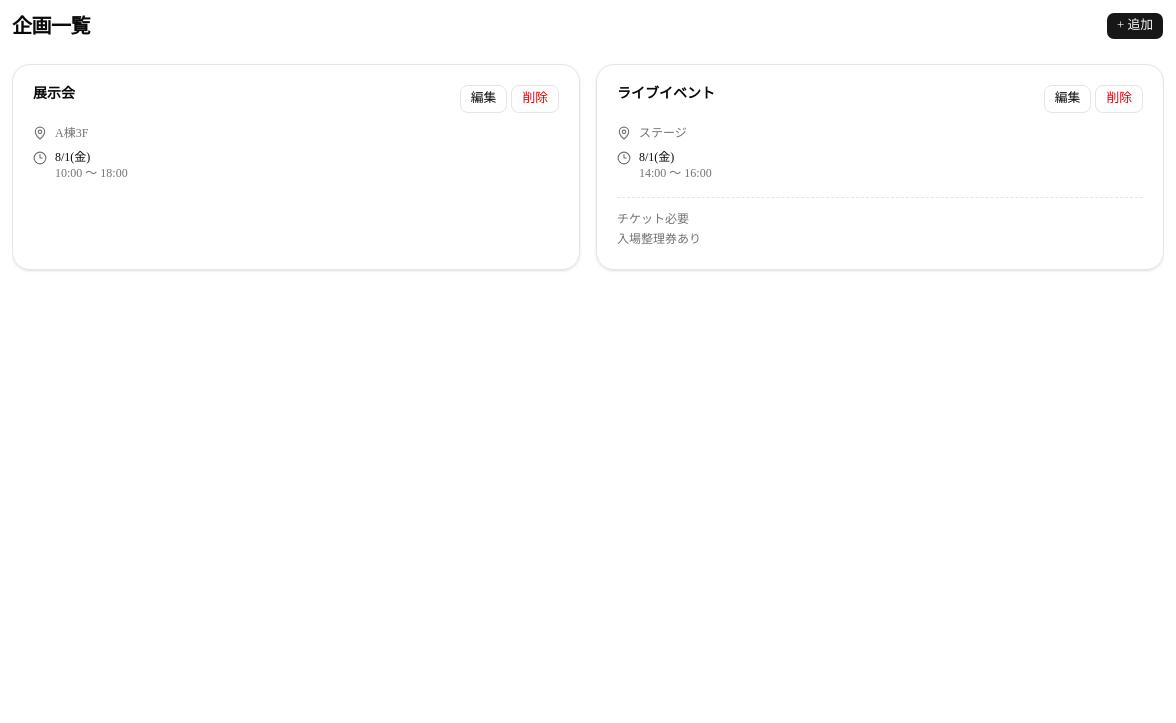
ProgramAdminPanel › 編集ボタンで既存データがフォームに入力済みになる
Click the button "編集" in the row of "展示会". click: coordinates (484, 99)
box: [460,85,507,113]
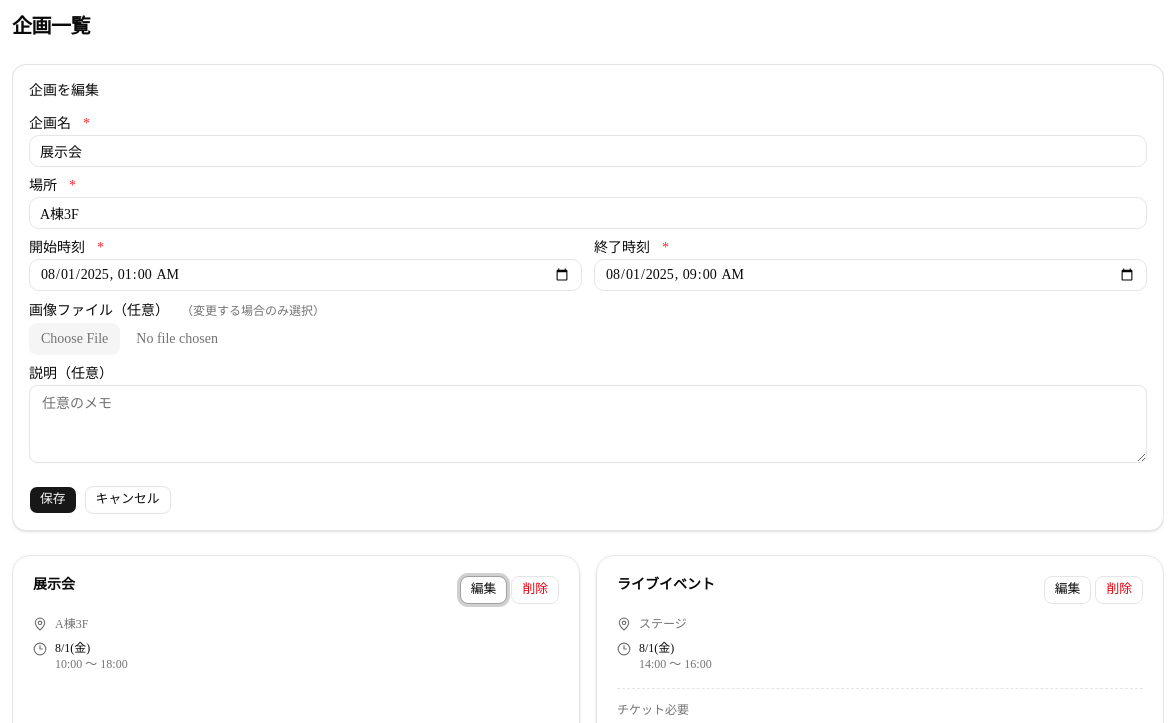
Result: the heading "企画を編集" is shown at [29,83,99,98]
Result: the field labelled "企画名 *" holds "展示会" at [29,135,1147,167]
Result: the field labelled "場所 *" holds "A棟3F" at [29,197,1147,229]
